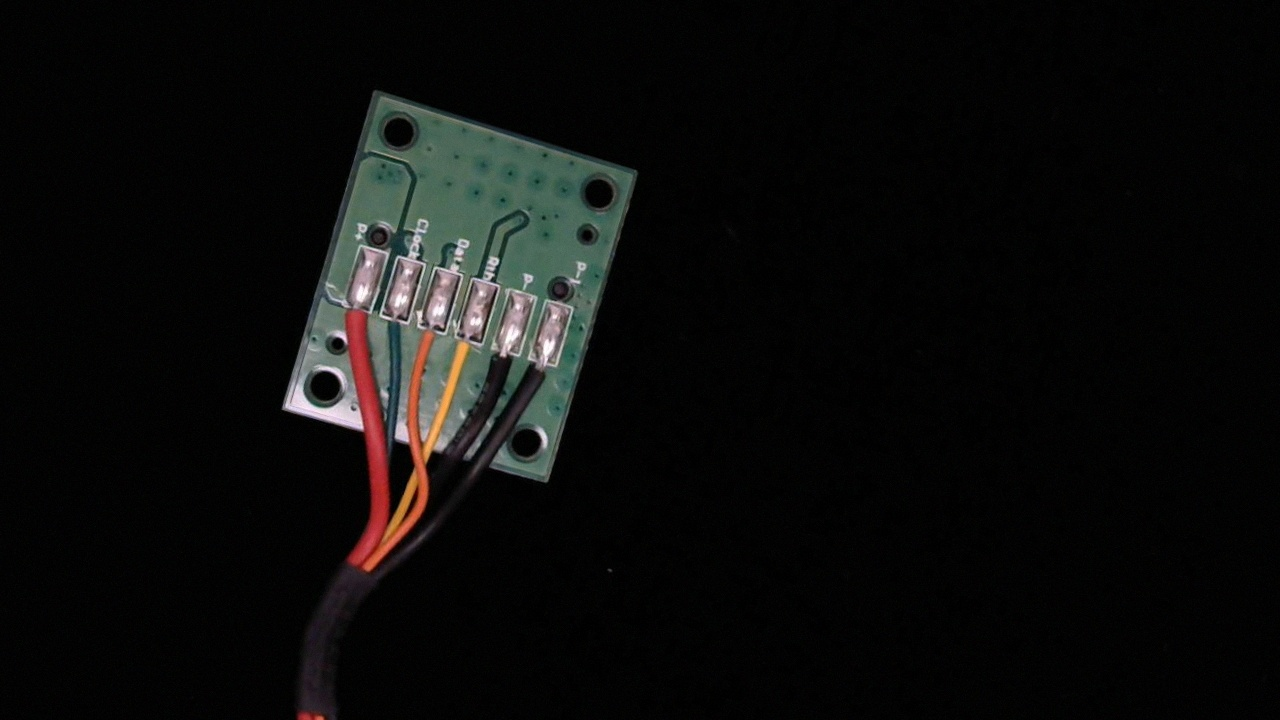Black: (470, 329, 525, 409)
Black1: (511, 343, 562, 417)
Green: (368, 297, 416, 360)
Orange: (402, 309, 452, 379)
Red: (329, 282, 382, 359)
Yellow: (432, 319, 487, 400)
